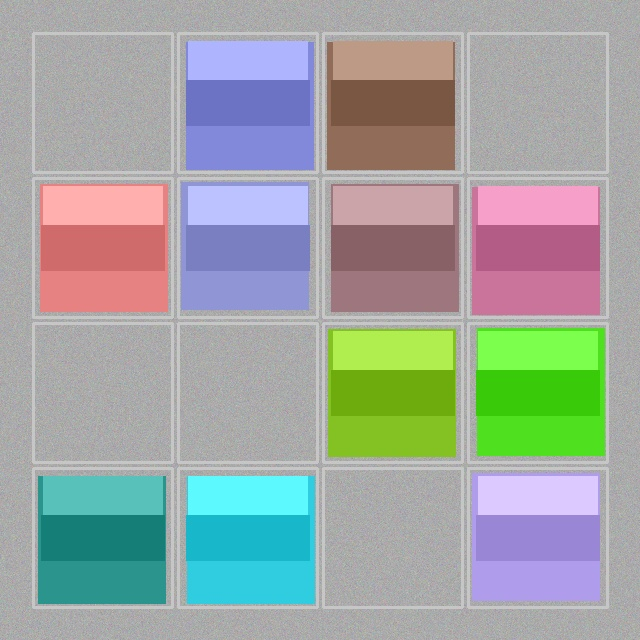space-empty: (35, 35, 170, 170), (470, 35, 605, 170), (35, 325, 170, 460), (180, 325, 315, 460), (325, 470, 460, 605)
space-occupied: (180, 35, 315, 170), (325, 35, 460, 170), (35, 180, 170, 315), (180, 180, 315, 315), (325, 180, 460, 315), (470, 180, 605, 315), (325, 325, 460, 460), (470, 325, 605, 460), (35, 470, 170, 605), (180, 470, 315, 605), (470, 470, 605, 605)
